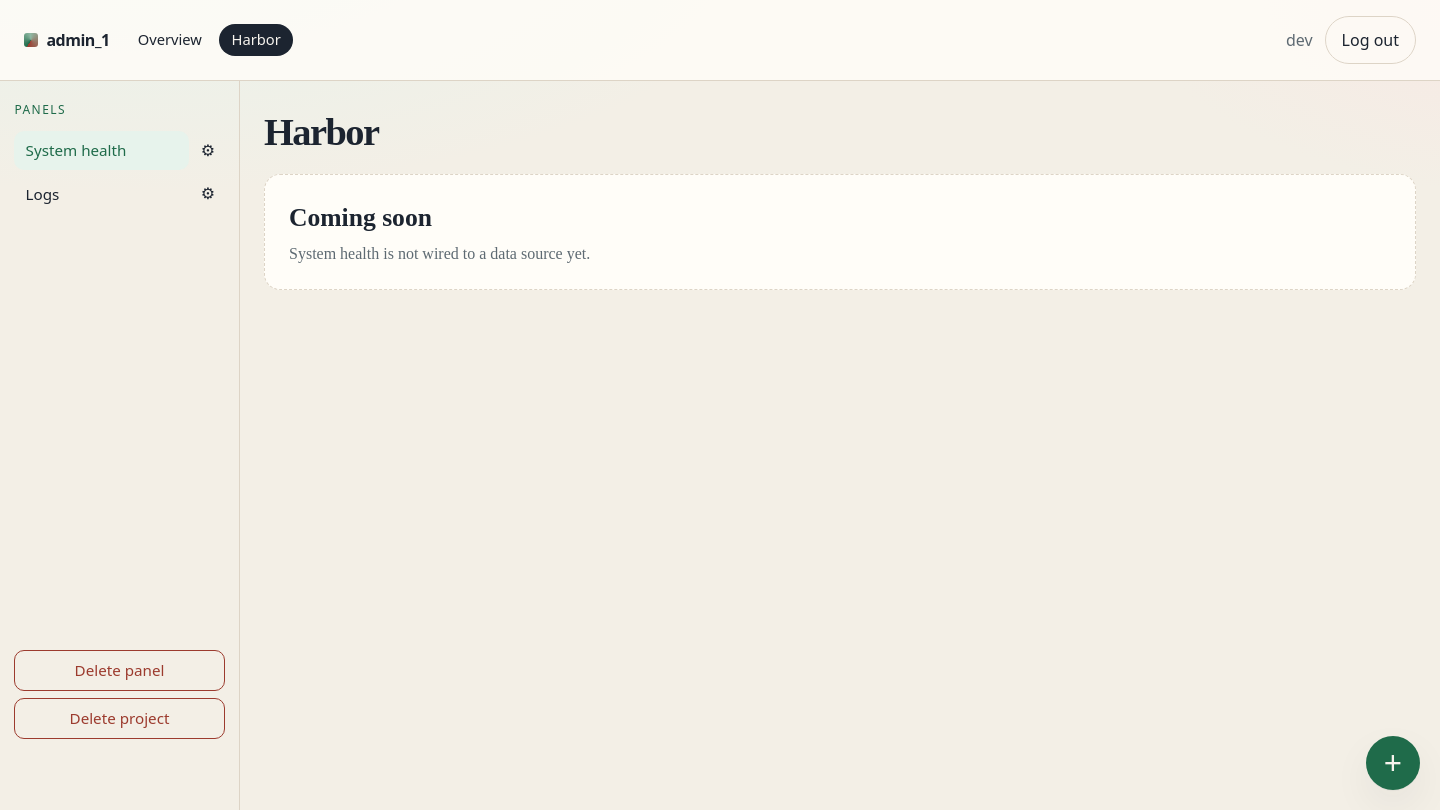
Test: panel settings › does not offer HTTP health on a panel that cannot use it
The image size is (1440, 810).
What coordinates should you click on to do the following:
click the link named "Logs settings"
I would click on:
 (208, 194)
Its box is [201,186,215,202].
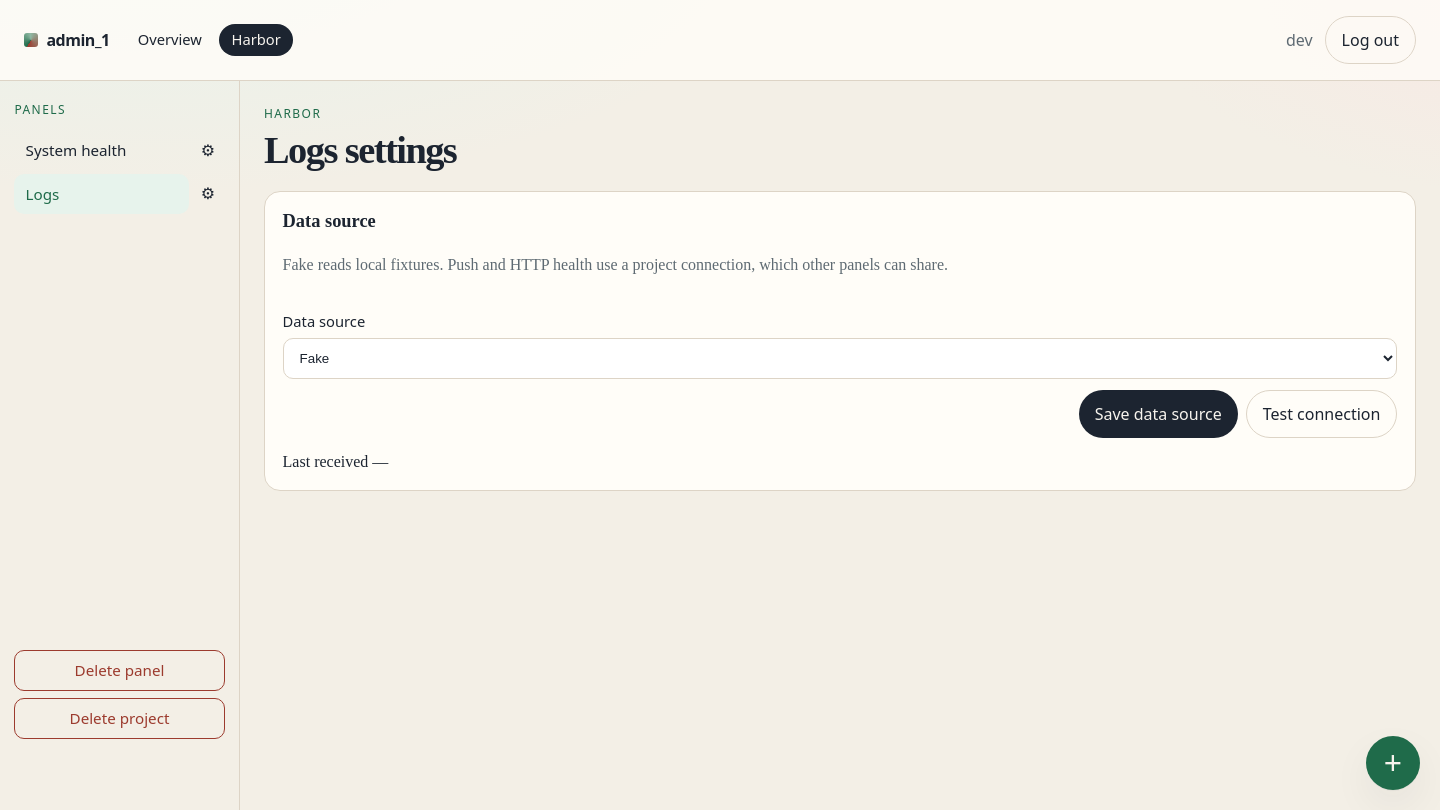
Check: the dropdown labelled "Data source" shows "Fake", box [283,338,1397,379]
